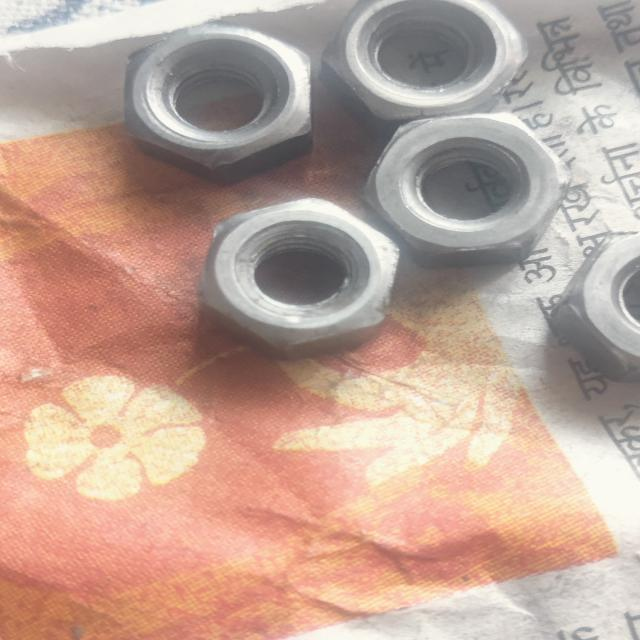disinfected nut: (200, 198, 400, 360), (363, 115, 567, 268), (123, 22, 313, 182), (323, 0, 527, 122), (550, 234, 640, 382)
